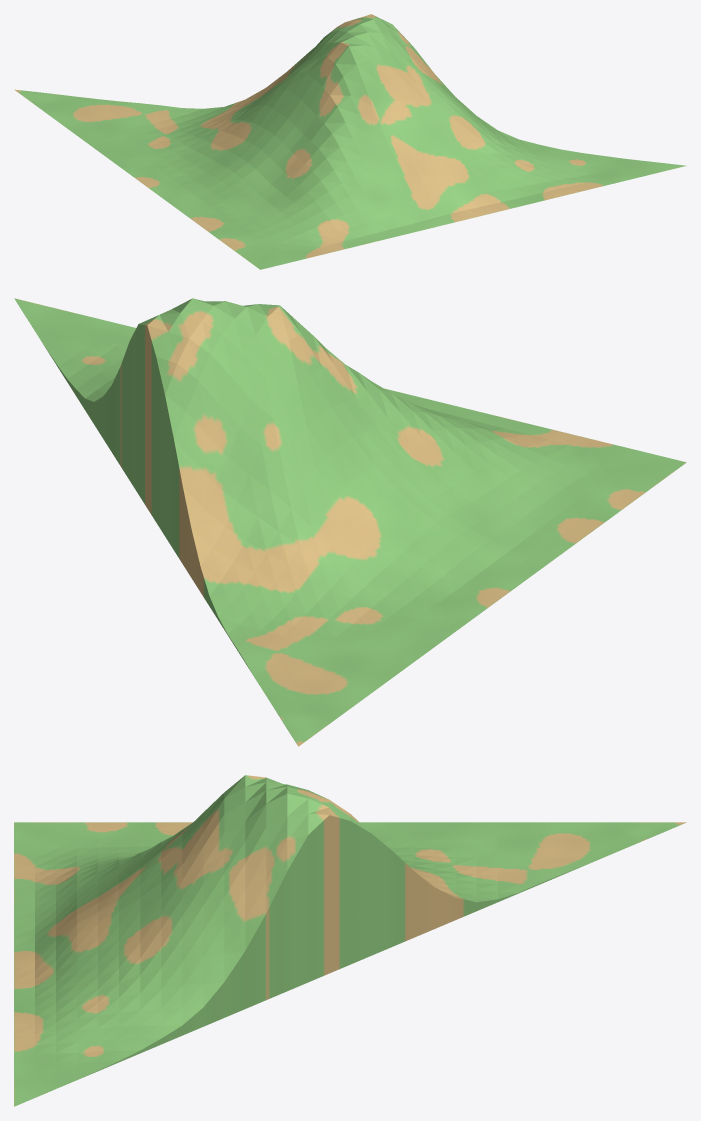
File: Grass_Hills_03_NW.obj
The picture shows the model from 3 angles, top to bottom: view 1: azimuth 30°, elevation 25°; view 2: azimuth 150°, elevation 25°; view 3: azimuth 270°, elevation 25°; orthographic projection. The views are drawn at different scales.
Bounding box in the file's own units: 10 × 2.8 × 10.
1 material, 1 textured.
